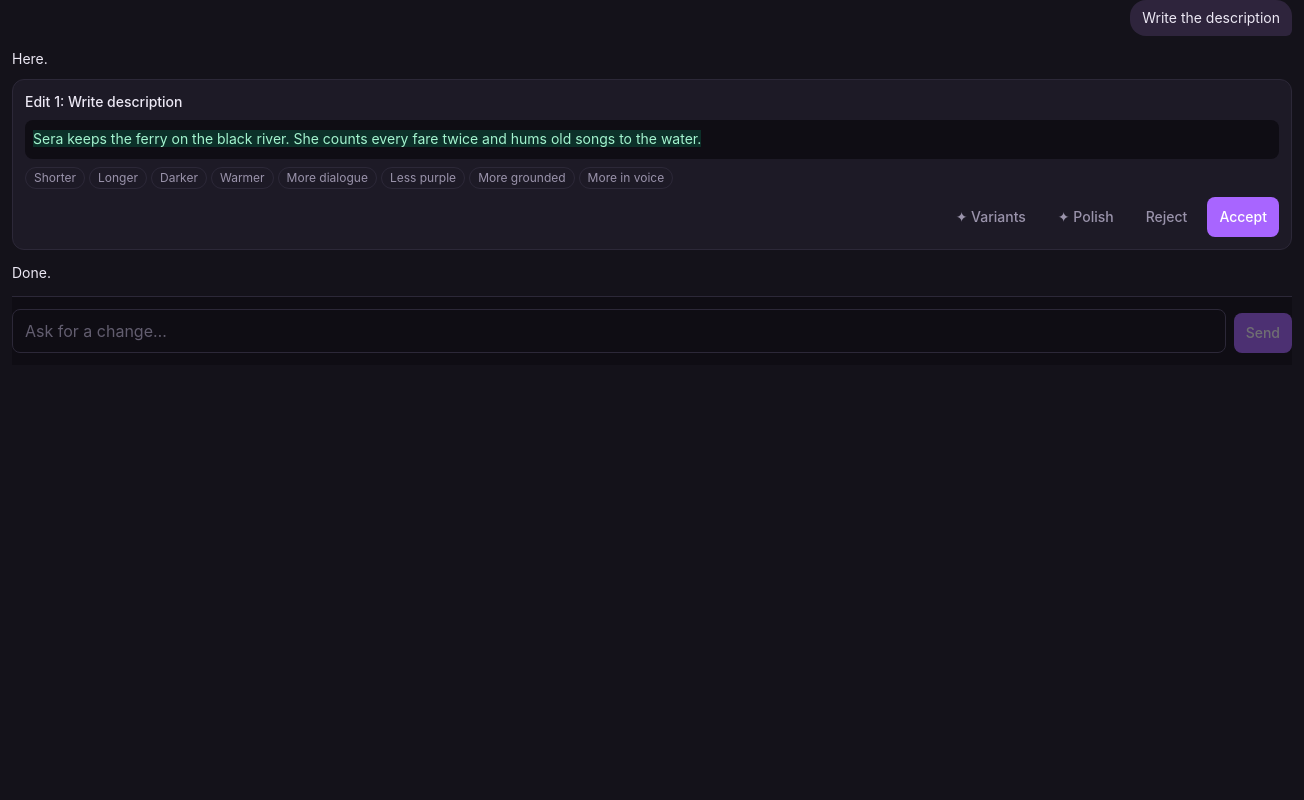
learn from the user › takes an optional reason on a rejection, and offers a style note after repeated feedback
This screenshot has width=1304, height=800.
Click the button "Reject".
click(1167, 216)  # box [1134,196,1199,236]
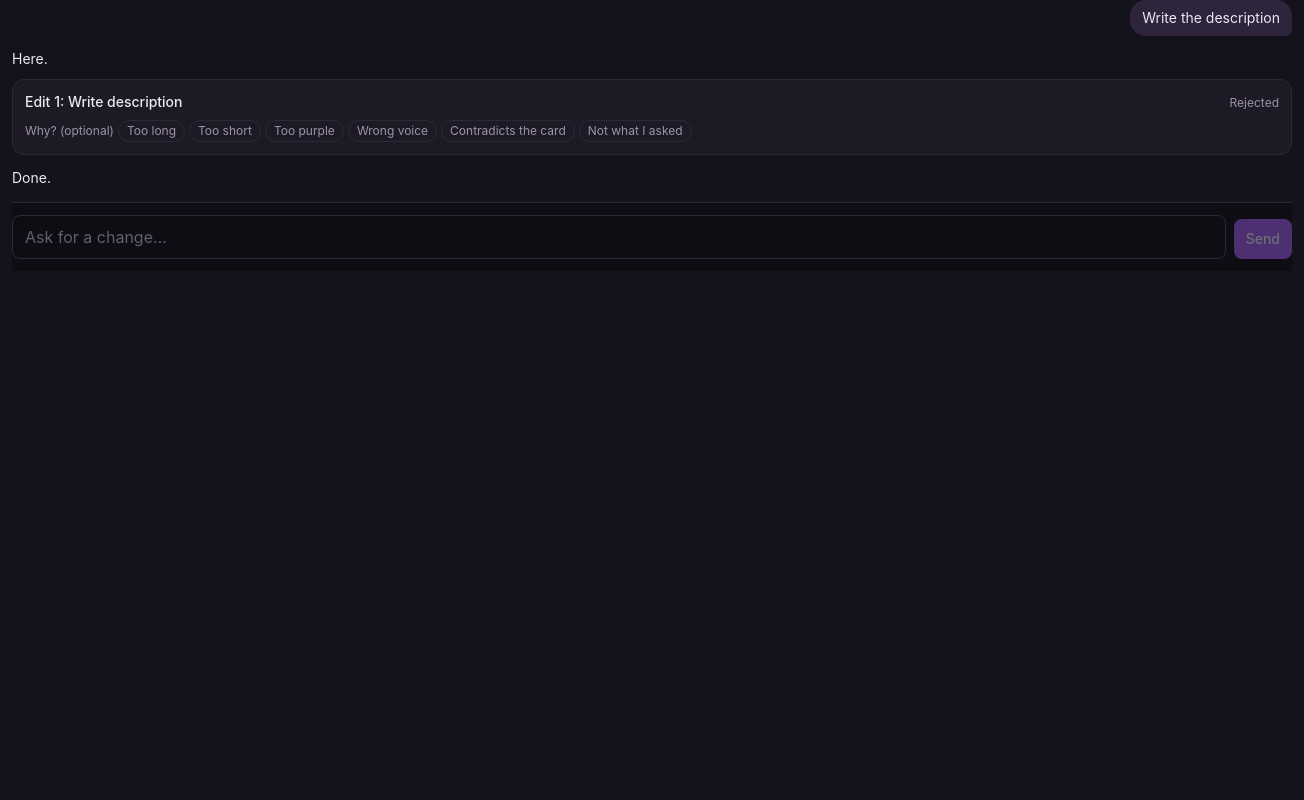
Click the button "Too long".
click(151, 131)  # box [118,120,185,142]
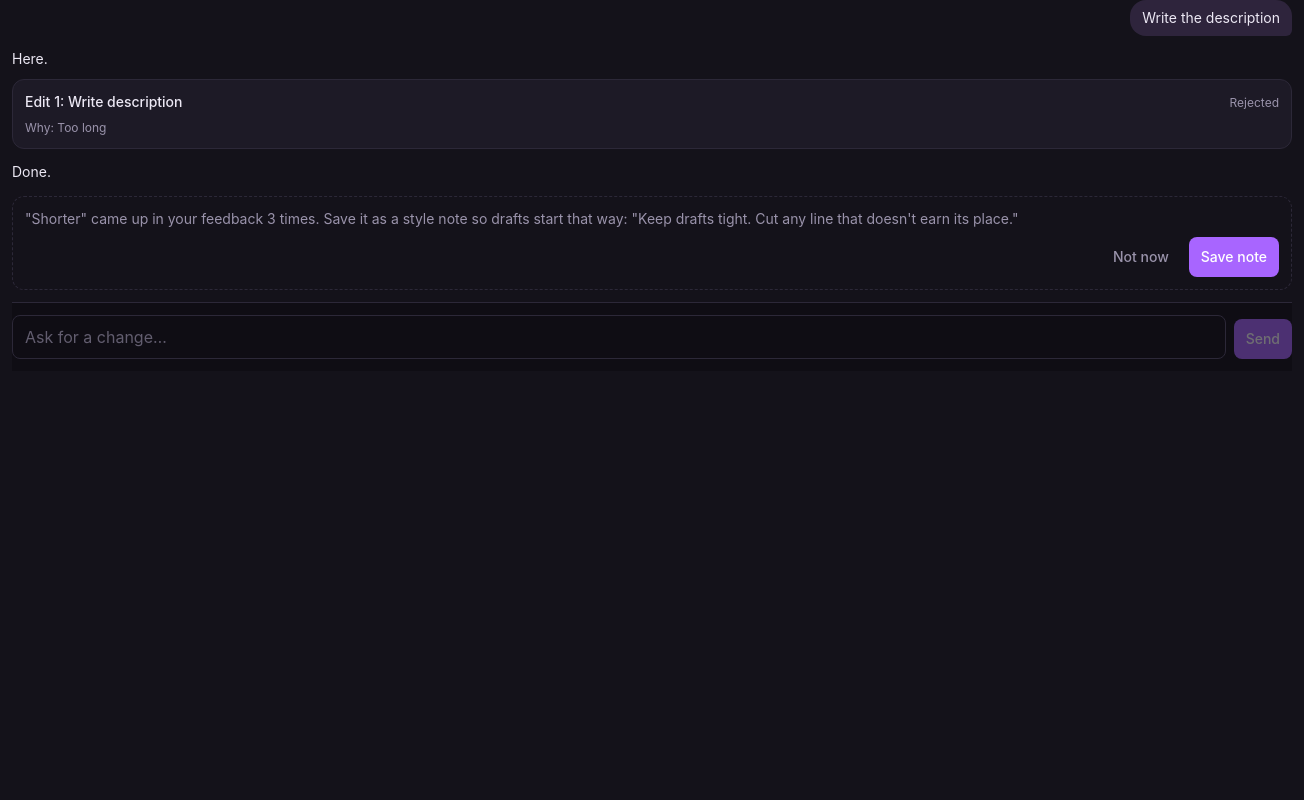
Now the text "Why: Too long" is shown, box [25,120,106,135]
Now the text "\"Shorter\" came up in your feedback 3 times" is shown, box [25,210,1018,226]
Click the button "Save note".
click(1234, 256)  # box [1189,236,1279,276]
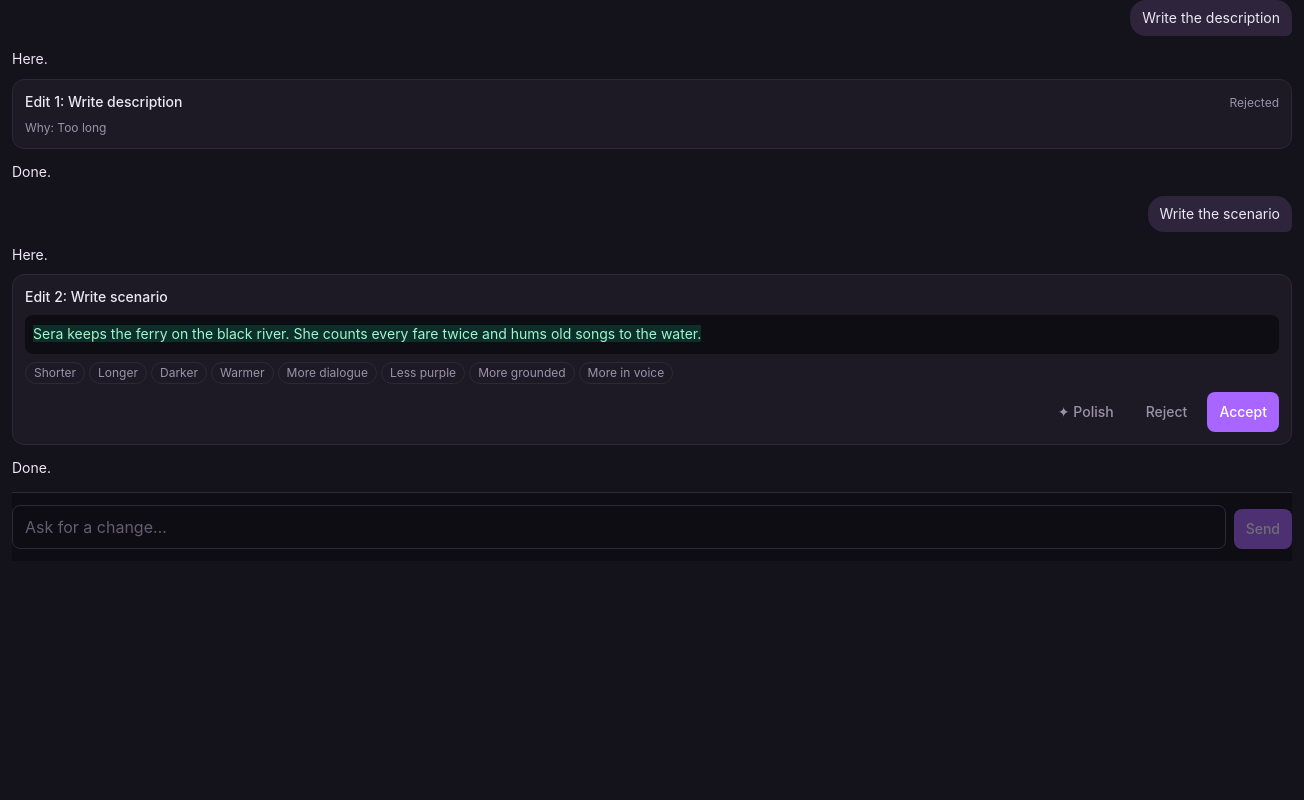
Now the text "came up in your feedback" is gone
